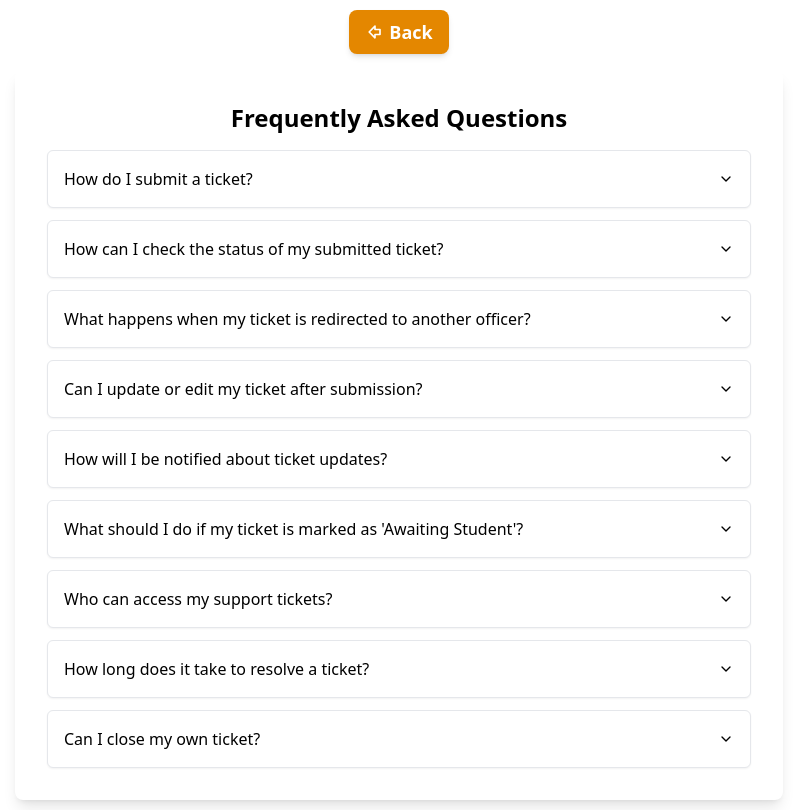
Test case: Help Q&A component › reveals an answer when a question is clicked
The width and height of the screenshot is (799, 810).
Click the button "How do I submit a ticket?". click: (158, 179)
box: x1=47 y1=150 x2=751 y2=208
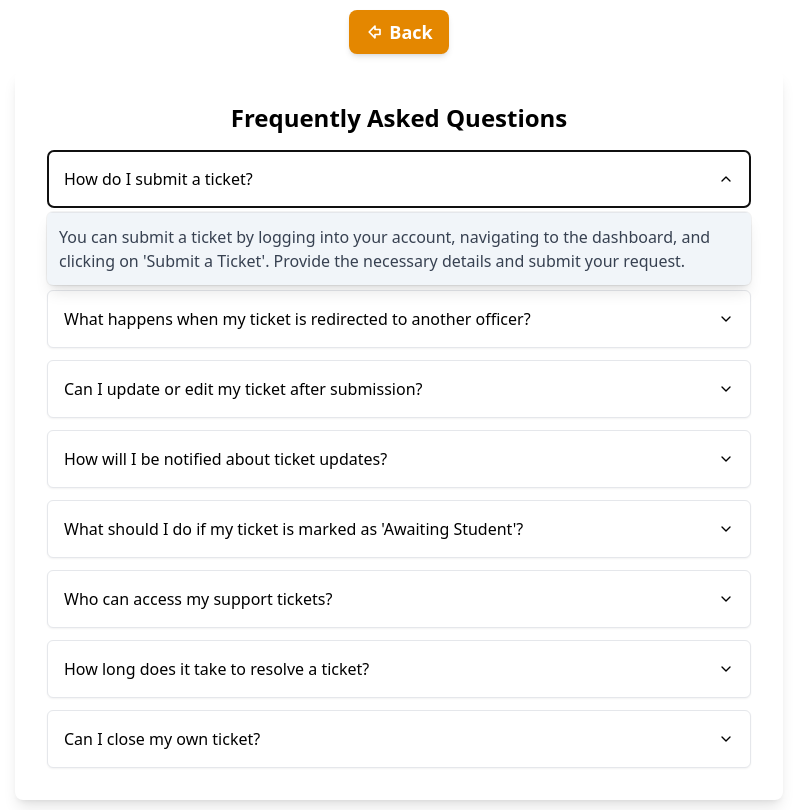
Check: the text "You can submit a ticket by logging into your account, navigating to the dashboard, and clicking on 'Submit a Ticket'. Pr" is shown, box x1=59 y1=226 x2=710 y2=272
